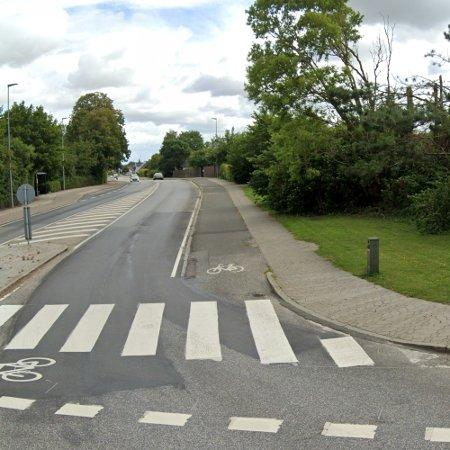crosswalks: (0, 299, 378, 372)
